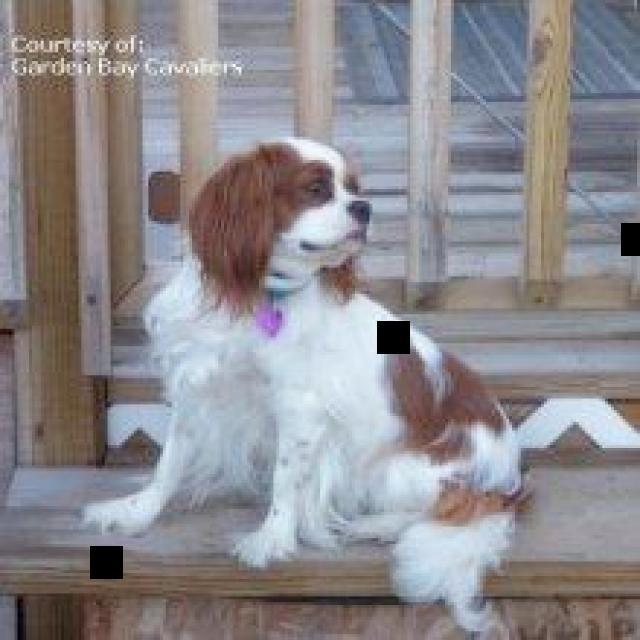adult_dog: (68, 135, 535, 640)
